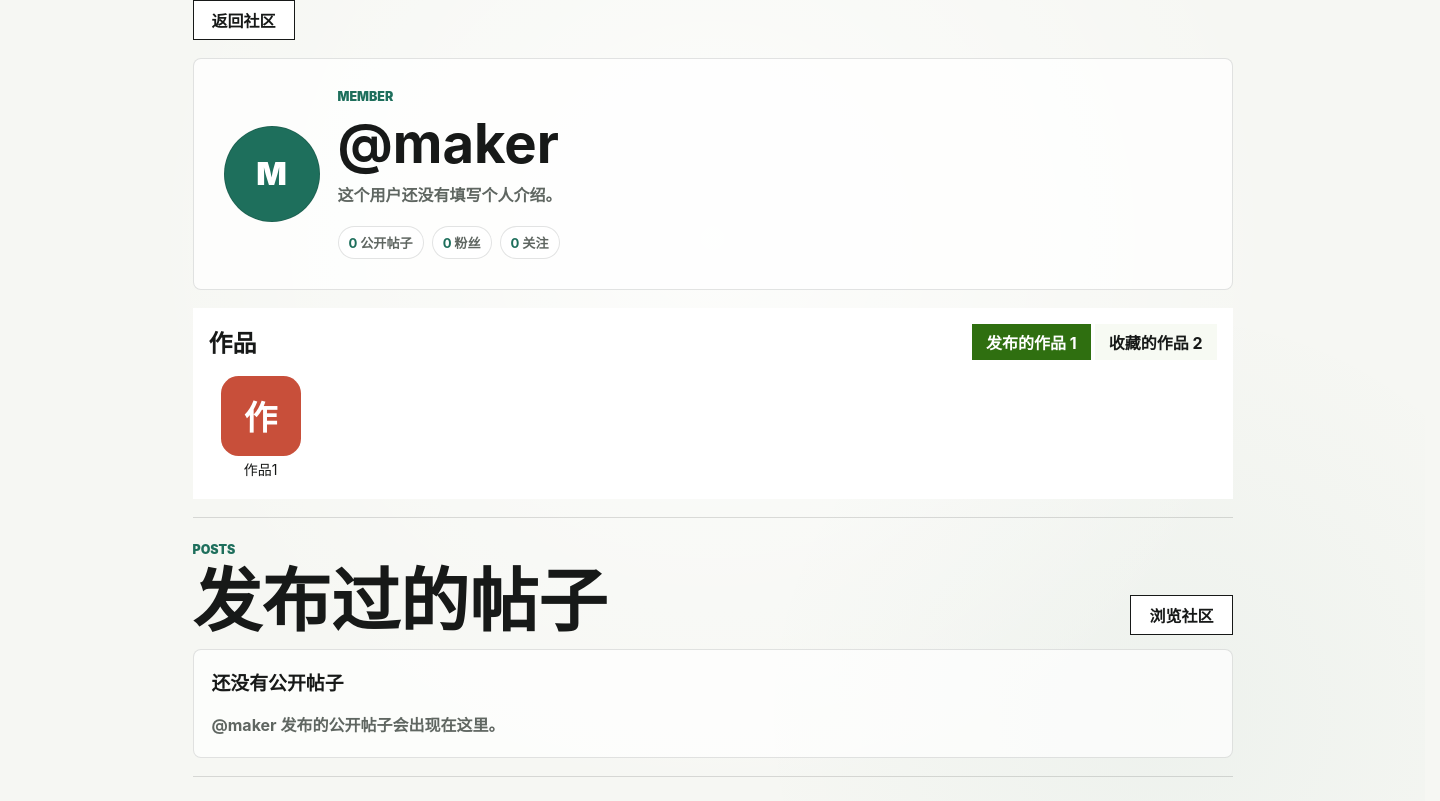
UserProfilePage works tabs › shows own favorites in a second tab
Click the tab "收藏的作品 2" at coordinates (1156, 342), box [1095,324,1216,360]
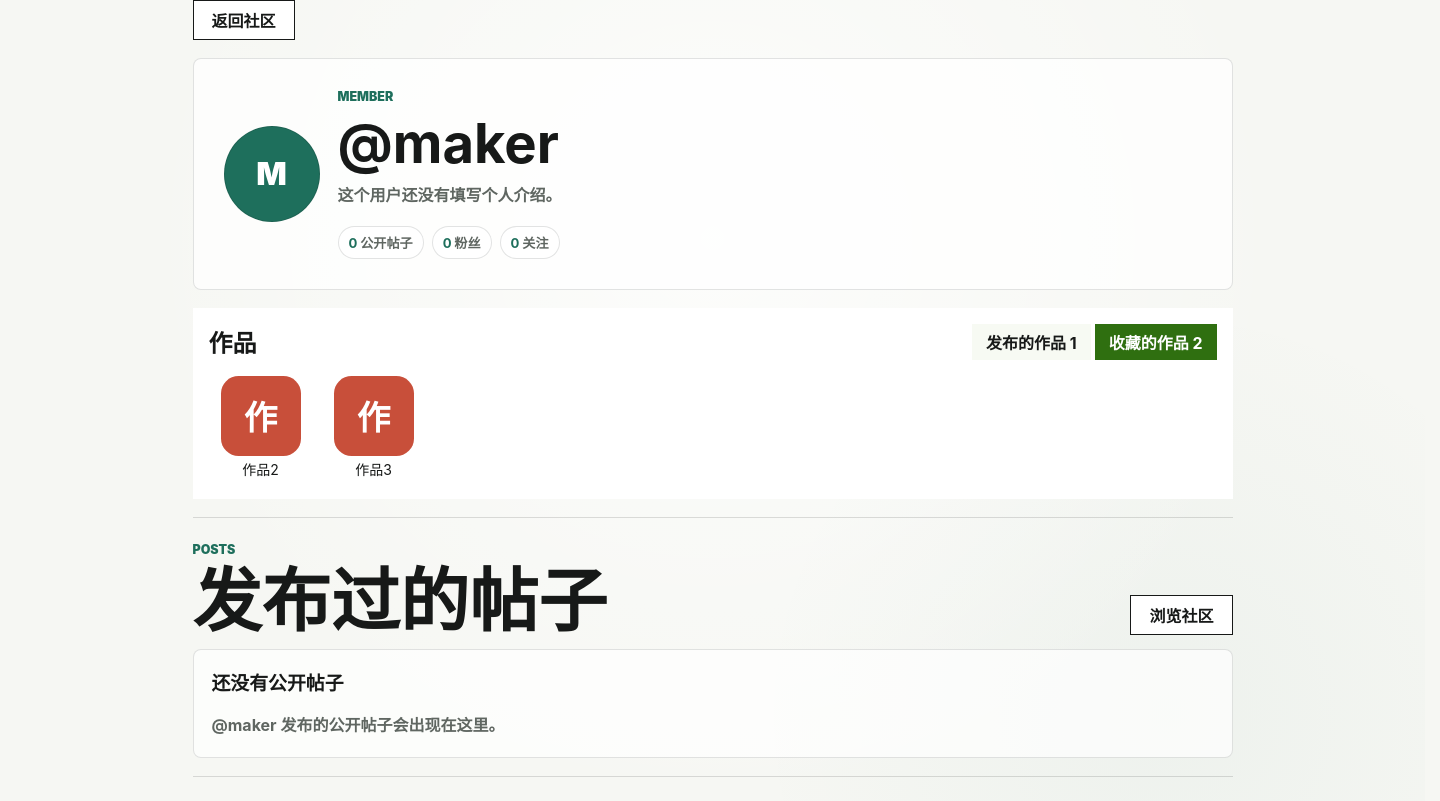
expect the number of links with class "work-tile" is 2: met, box [220,376,300,478]; [334,376,414,478]
